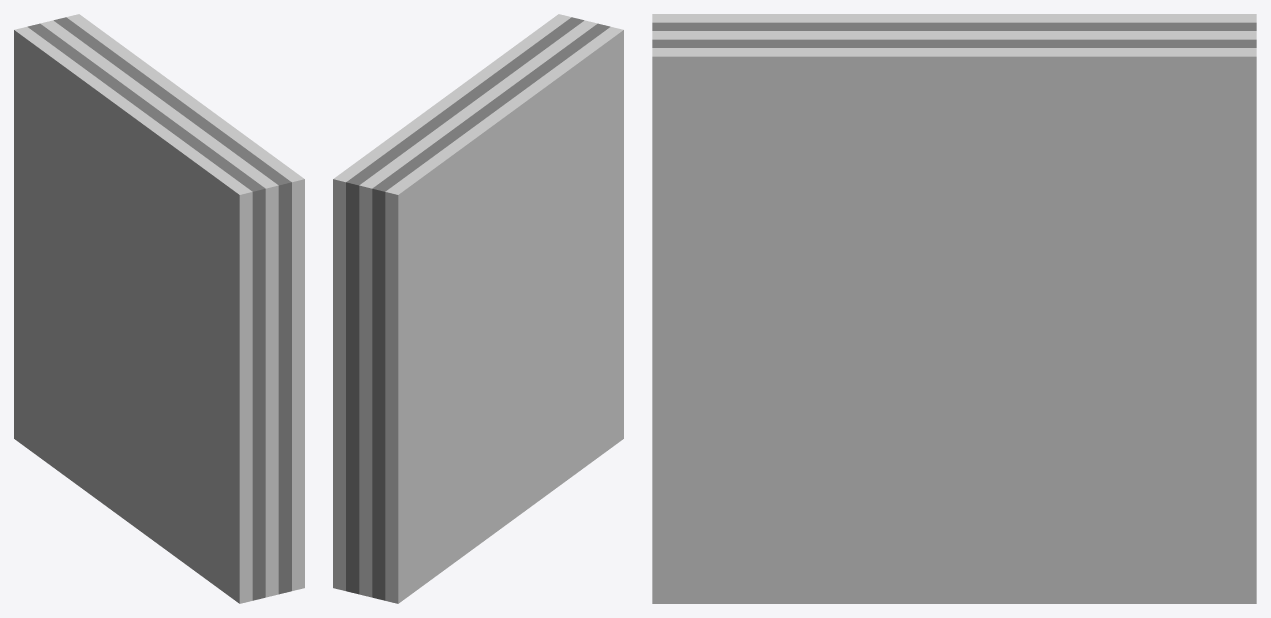
The model's file is SpellBook-3.obj.
3 views of the same model, side by side, from view 1: azimuth 30°, elevation 25°; view 2: azimuth 150°, elevation 25°; view 3: azimuth 270°, elevation 25° (orthographic). The views are drawn at different scales.
Size of the model in its own units: 0.5 by 3 by 3.
Materials: 1 (1 with a texture image).
